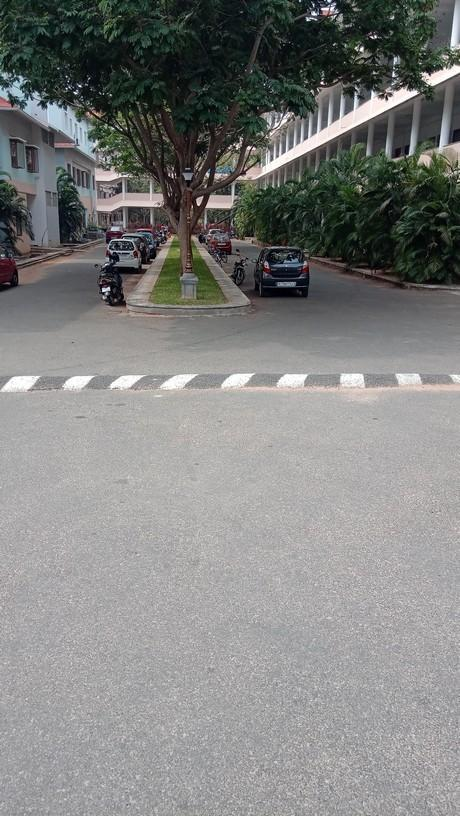speedbreaker: (5, 362, 456, 400)
